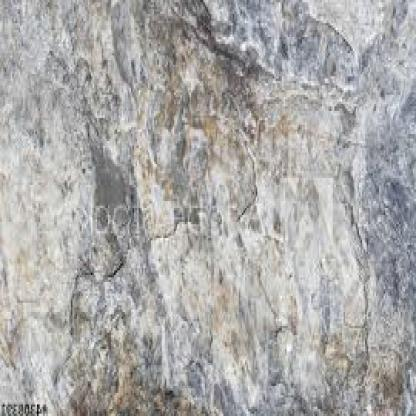Metamorphic_Quartize: (1, 2, 415, 415)
